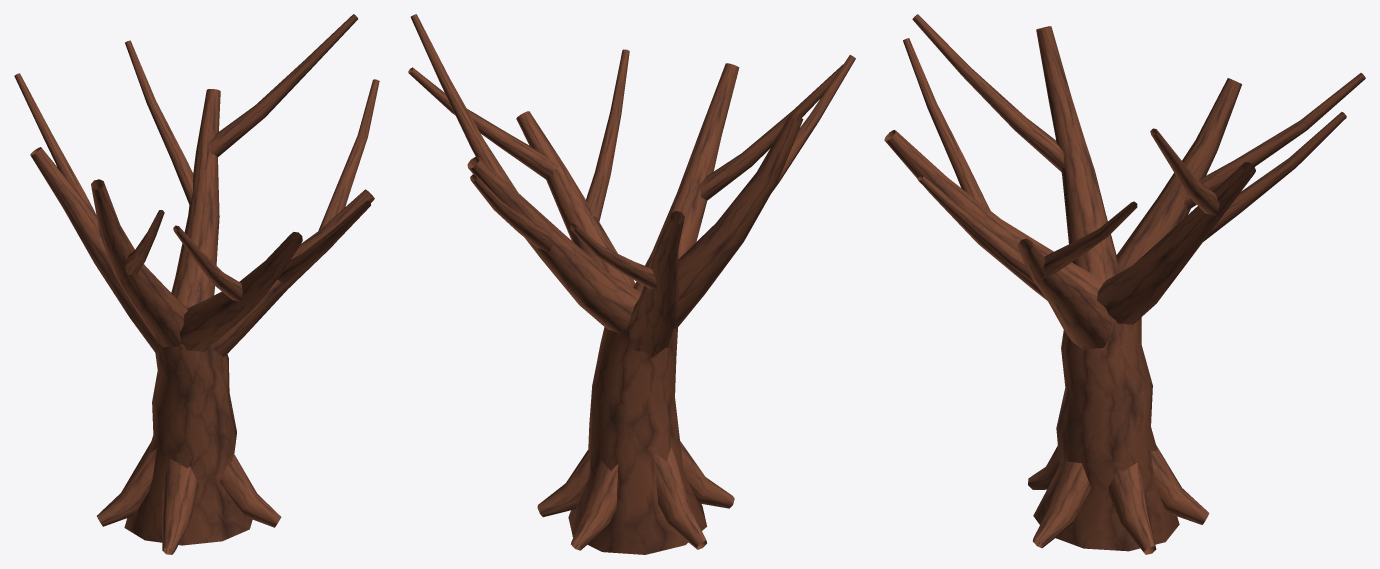
File: oak_bare.gltf
The picture shows the model from 3 angles, left to right: view 1: azimuth 30°, elevation 25°; view 2: azimuth 150°, elevation 25°; view 3: azimuth 270°, elevation 25°; orthographic projection. The views are drawn at different scales.
Parts seen in each view (by area): view 1: oak_bare; view 2: oak_bare; view 3: oak_bare.
Boxes of the visible parts, x1,y1,x2,y2 form: oak_bare: [14, 14, 379, 554]; oak_bare: [408, 14, 855, 554]; oak_bare: [884, 14, 1365, 554].
Bounding box in the file's own units: 4.78 × 6.25 × 5.49.
Materials: 1 (1 with a texture image).
